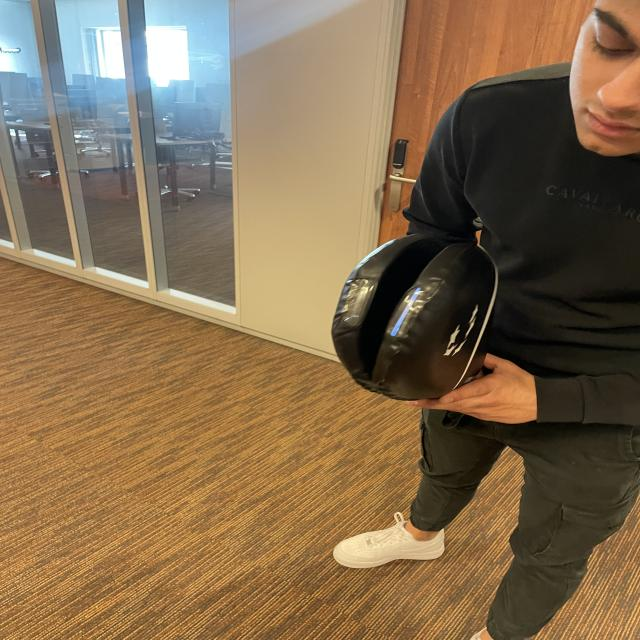paddle: (334, 234, 496, 400)
trigger: (384, 285, 429, 338)
